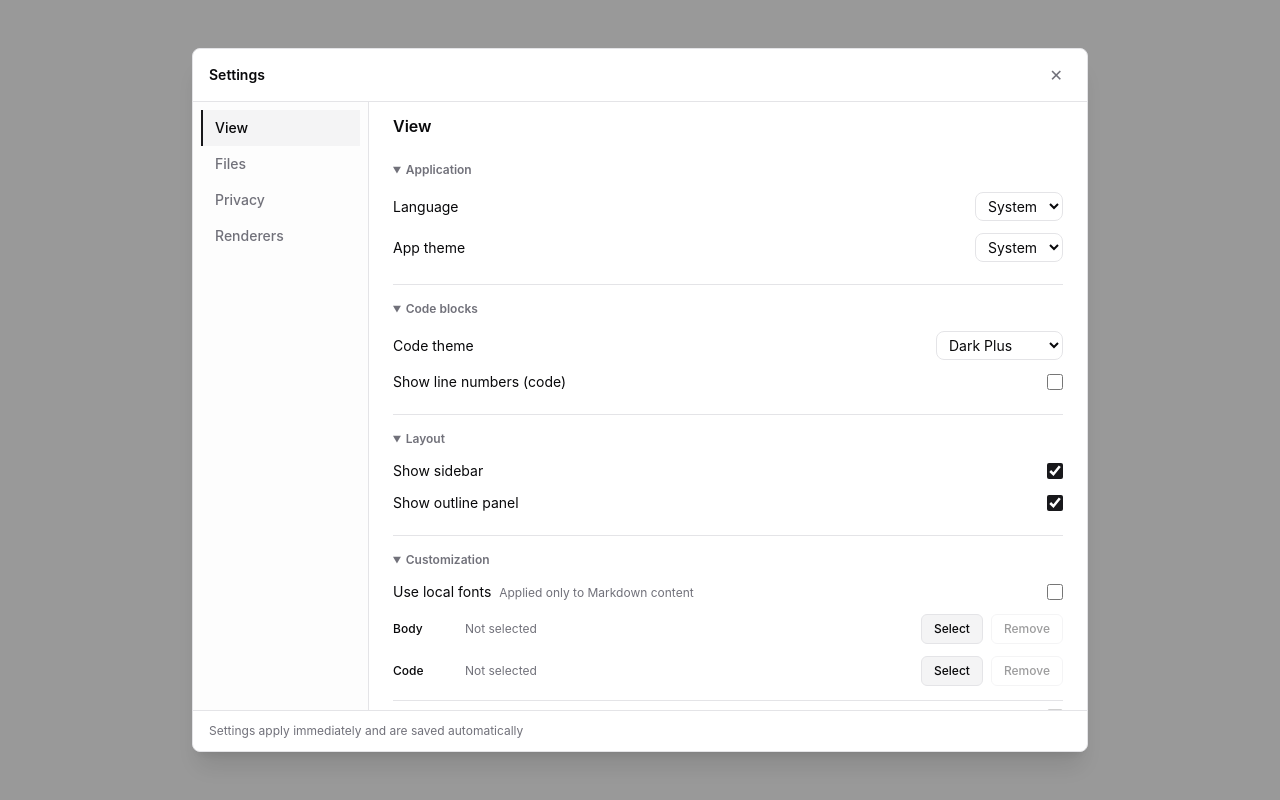
Test: SettingsPanel › Windows連携の変更と再取得が失敗しても実状態とローカライズ済みエラーを表示する
This screenshot has width=1280, height=800.
Click the button "Files" at [280, 164], box [201,146,360,182]
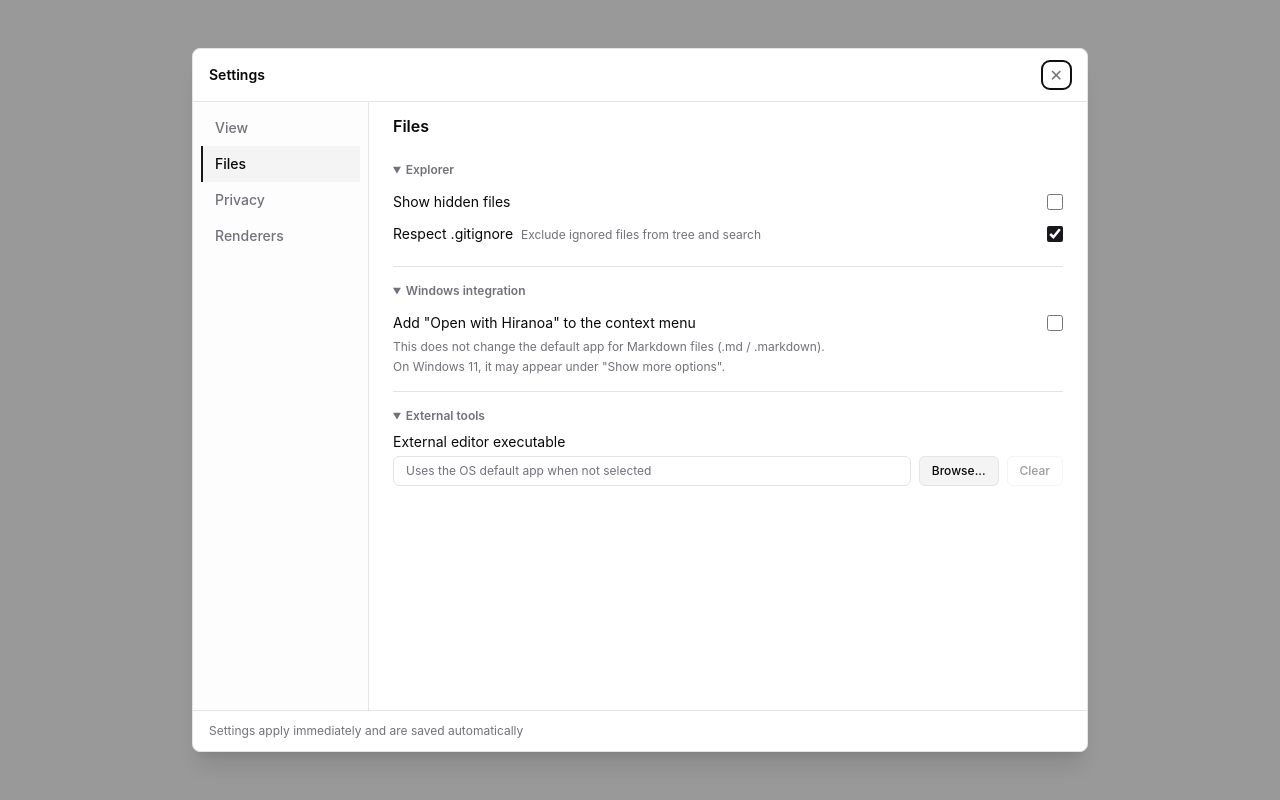
Click the checkbox labelled "Add \"Open with Hiranoa\" to the context menu" at [1055, 323], box [1047,315,1063,331]
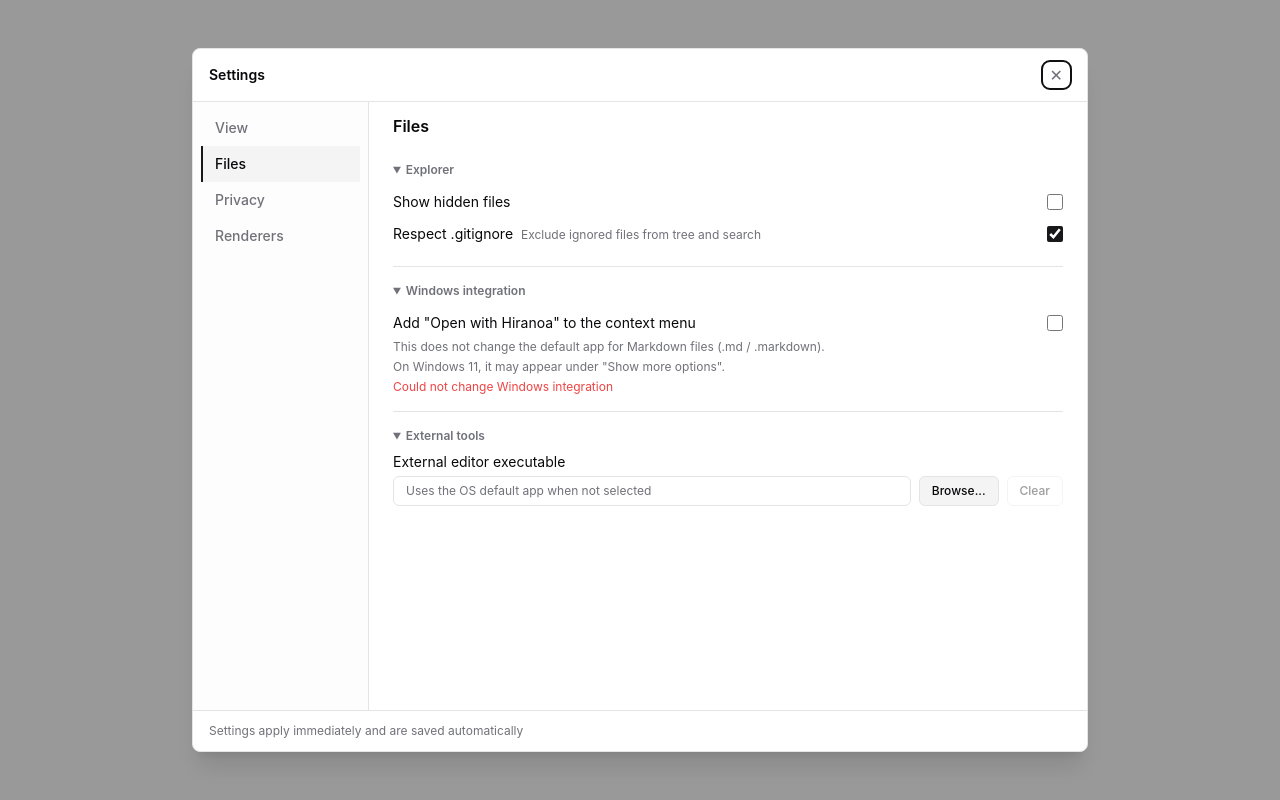
Expected: the message does not show "レジストリ", [393,379,613,394]
Expected: the message reads "Could not change Windows integration", [393,379,613,394]
